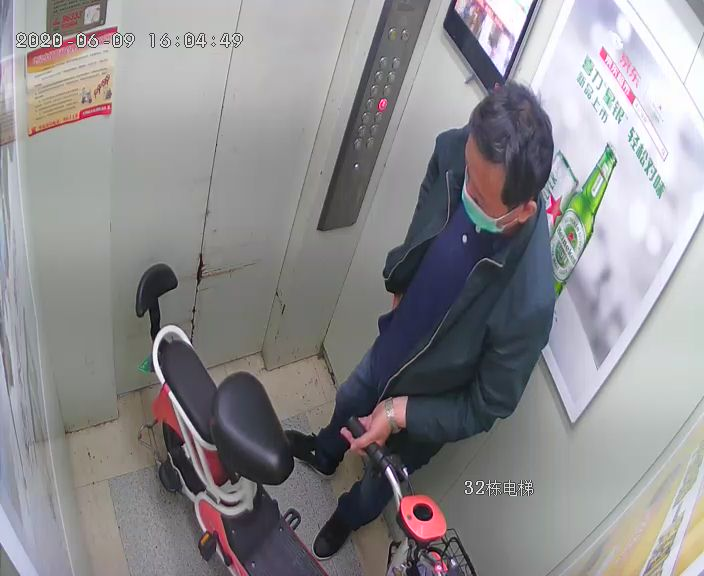Electric-bicycle: (140, 268, 448, 575)
